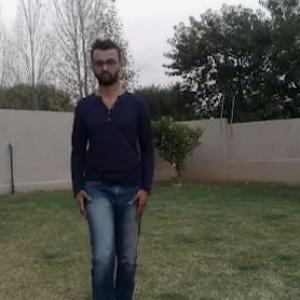follow: (73, 46, 150, 299)
